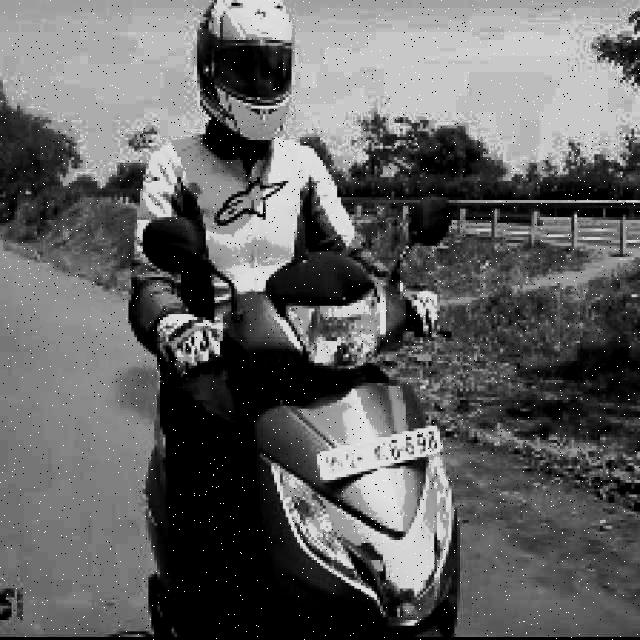Bike: (139, 247, 459, 639)
